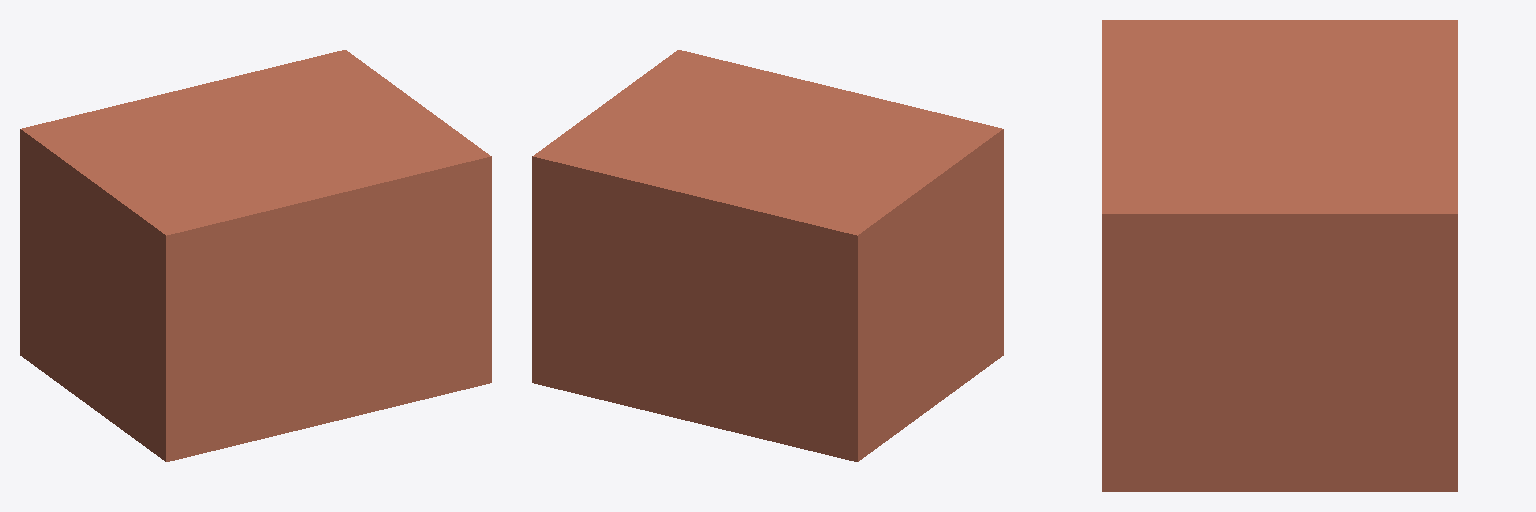
robot.urdf — random_box:
<?xml version='1.0' encoding='UTF-8'?>
<robot name="random_box">
  <link name="box">

    <inertial>
      <mass value="0.1"/>
      <origin xyz="0 0 0" rpy="0 0 0"/>
      <inertia ixx="0.1" ixy="0.1" ixz="0.1" iyy="0.1" iyz="0.1" izz="0.1"/>
    </inertial>

    <visual>
      <geometry>
        <box size="0.9 0.7 0.6"/>
      </geometry>
      <material name="color">
        <color rgba="0.8 0.5 0.4 1"/>
      </material>
    </visual>
    <collision>
      <geometry>
        <box size="0.9 0.7 0.6"/>
      </geometry>

      <surface>
        <friction>
          <ode>
            <mu>100000000.0</mu>
            <mu2>100000000.0</mu2>
          </ode>
        </friction>
        <contact>
          <ode>
            <min_depth>0.003</min_depth>
          </ode>
        </contact>
      </surface>

    </collision>

  </link>
</robot>

--- Facts derived from the render (not from the file) ---
Views: 3 orthographic renders of the robot side by side, from view 1: azimuth 30°, elevation 25°; view 2: azimuth 150°, elevation 25°; view 3: azimuth 270°, elevation 25°.
Robot: random_box — 1 links, 0 joints (none); root link box; default pose: every joint at zero.
Visible links, largest first — view 1: box; view 2: box; view 3: box.
Boxes of the visible links, bbox=[...] form: box: bbox=[20, 50, 491, 461]; box: bbox=[532, 50, 1003, 461]; box: bbox=[1102, 20, 1457, 491].
Size in the robot's own frame: 0.9 by 0.7 by 0.6 metres.
Geometry: primitives only (box / cylinder / sphere), no mesh files.